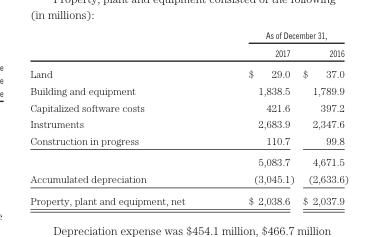table: (29, 29, 348, 205)
table column: (29, 29, 216, 205), (216, 29, 297, 205), (297, 29, 348, 205)
table column header: (29, 29, 348, 62)
table row: (29, 62, 348, 82), (29, 131, 348, 151), (29, 43, 348, 62), (29, 151, 348, 170), (29, 170, 348, 189), (29, 98, 348, 115), (29, 82, 348, 98), (29, 115, 348, 131), (29, 189, 348, 205), (29, 29, 348, 43)
table spanning cell: (216, 29, 348, 43)
